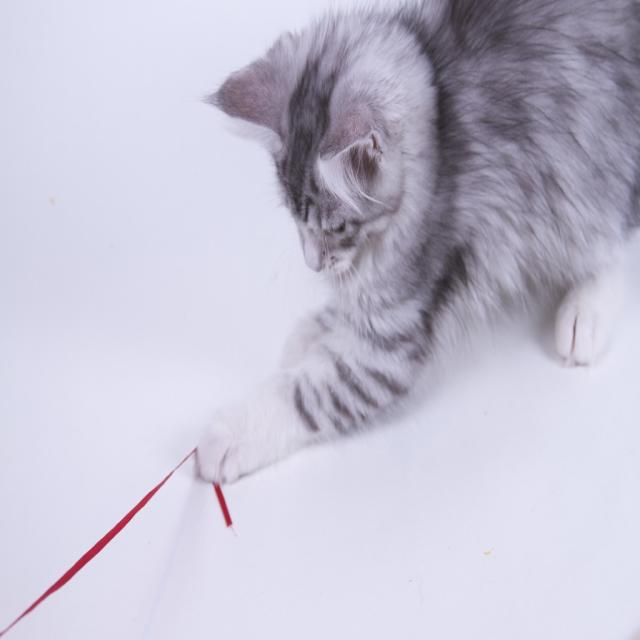Cat: (191, 0, 637, 484)
